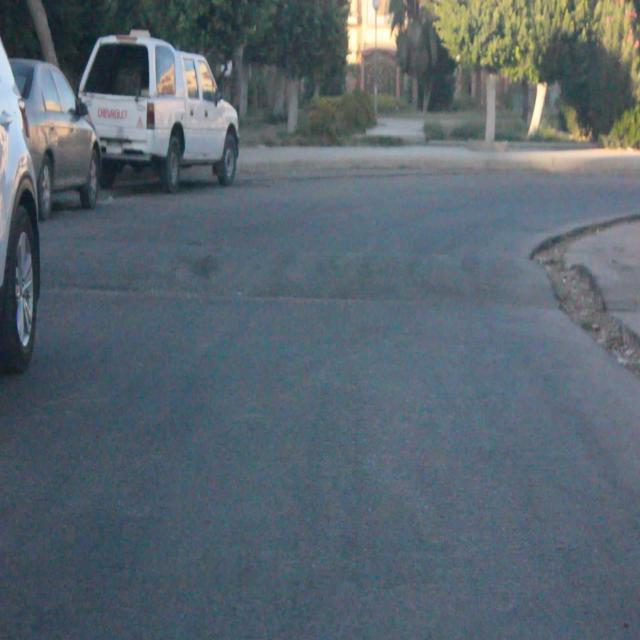NonMarked Bump: (77, 223, 545, 322)
